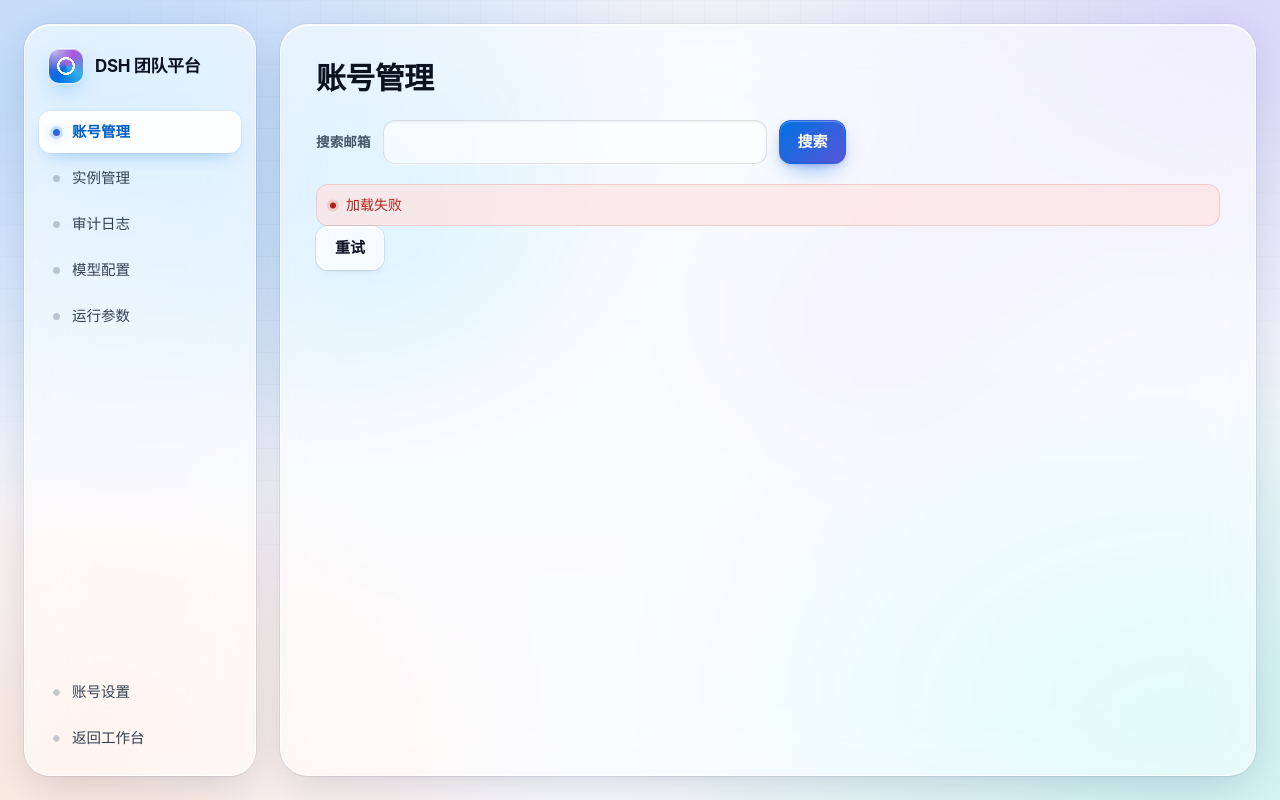
it: shows a safe list failure for network and retries the current query
Click the button "重试".
click(350, 248)  # box [316,226,384,270]
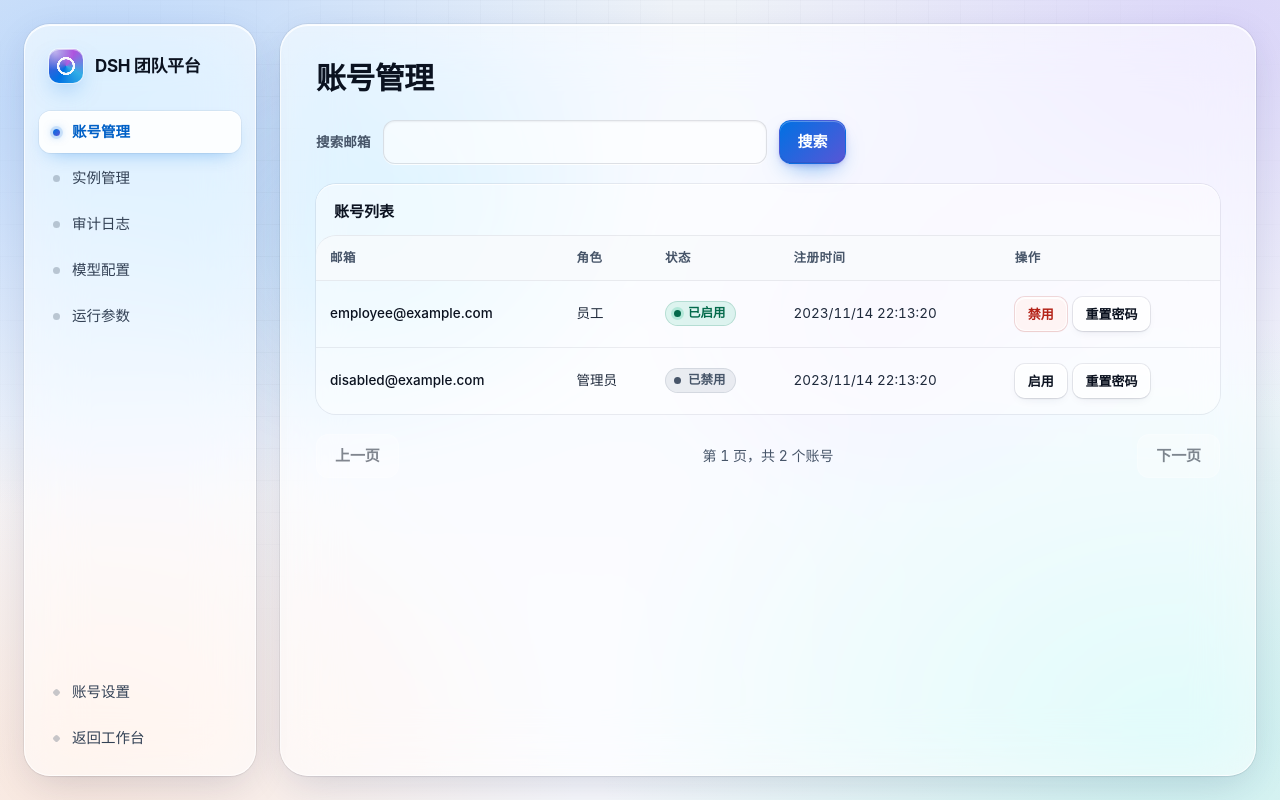
Expected: the text "employee@example.com" is shown, [316,281,562,348]
